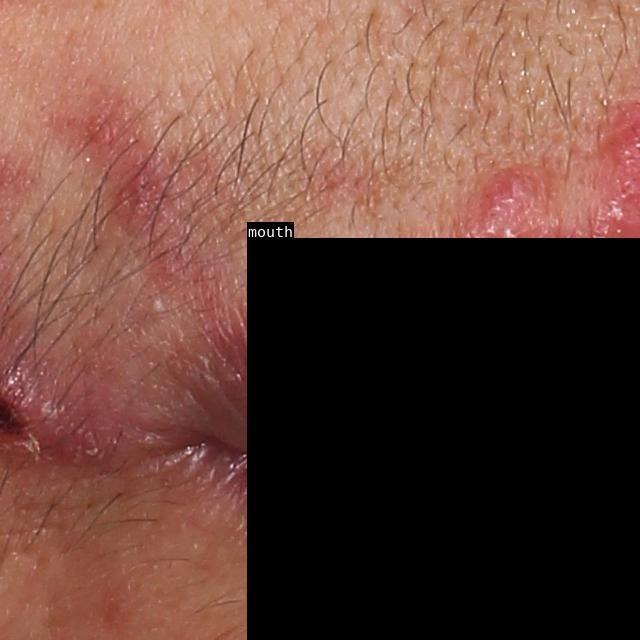papule: (478, 153, 549, 226), (112, 154, 168, 228), (69, 99, 126, 153)
